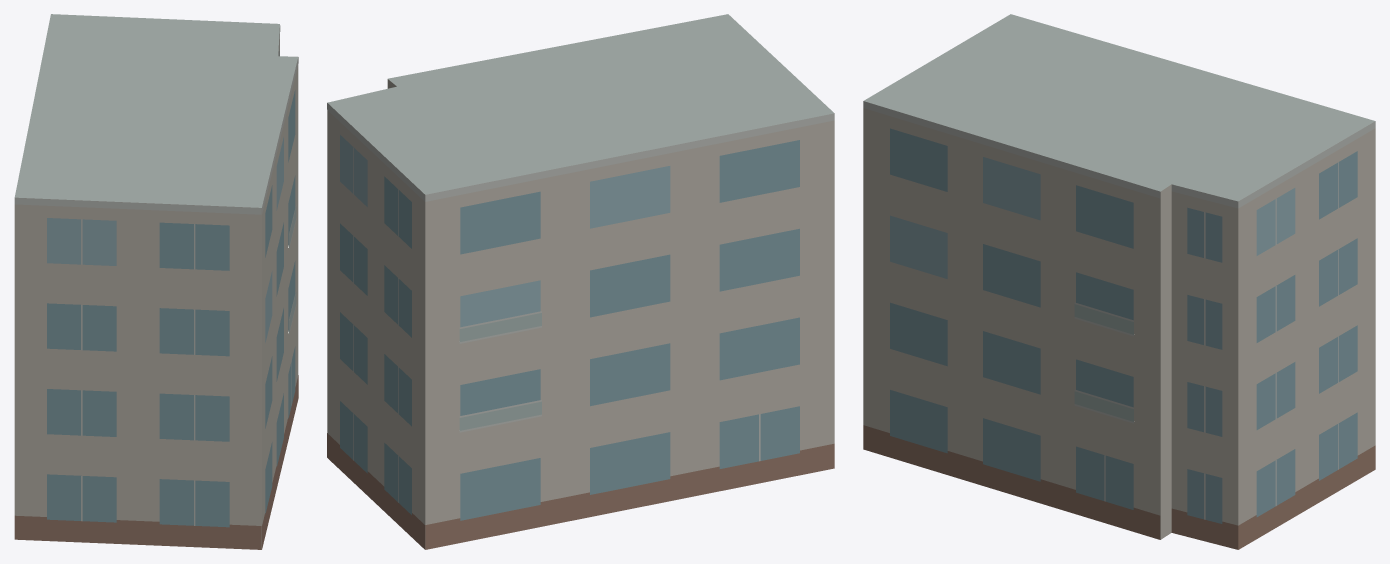
Rendered from survey-upis-32578993.glb.
3 views of the same model, side by side, from view 1: azimuth 30°, elevation 25°; view 2: azimuth 150°, elevation 25°; view 3: azimuth 270°, elevation 25° (orthographic). The views are drawn at different scales.
Parts seen in each view (by area): view 1: survey-upis-32578993.tmp; view 2: survey-upis-32578993.tmp; view 3: survey-upis-32578993.tmp.
Part boxes in pixels (x1,y1,x2,y2): survey-upis-32578993.tmp: [14, 14, 298, 549]; survey-upis-32578993.tmp: [327, 14, 834, 549]; survey-upis-32578993.tmp: [863, 14, 1375, 549].
Bounding box in the file's own units: 14.09 × 12.2 × 16.27.
